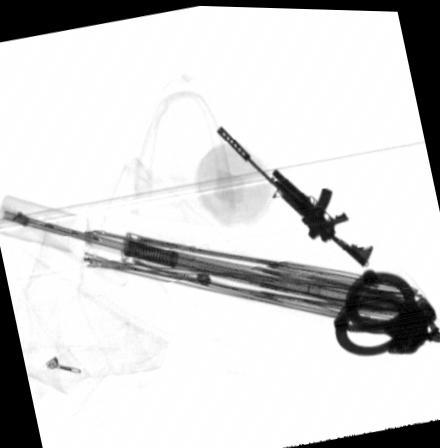Gun: (215, 121, 376, 266)
HandCuffs: (332, 263, 440, 353)
